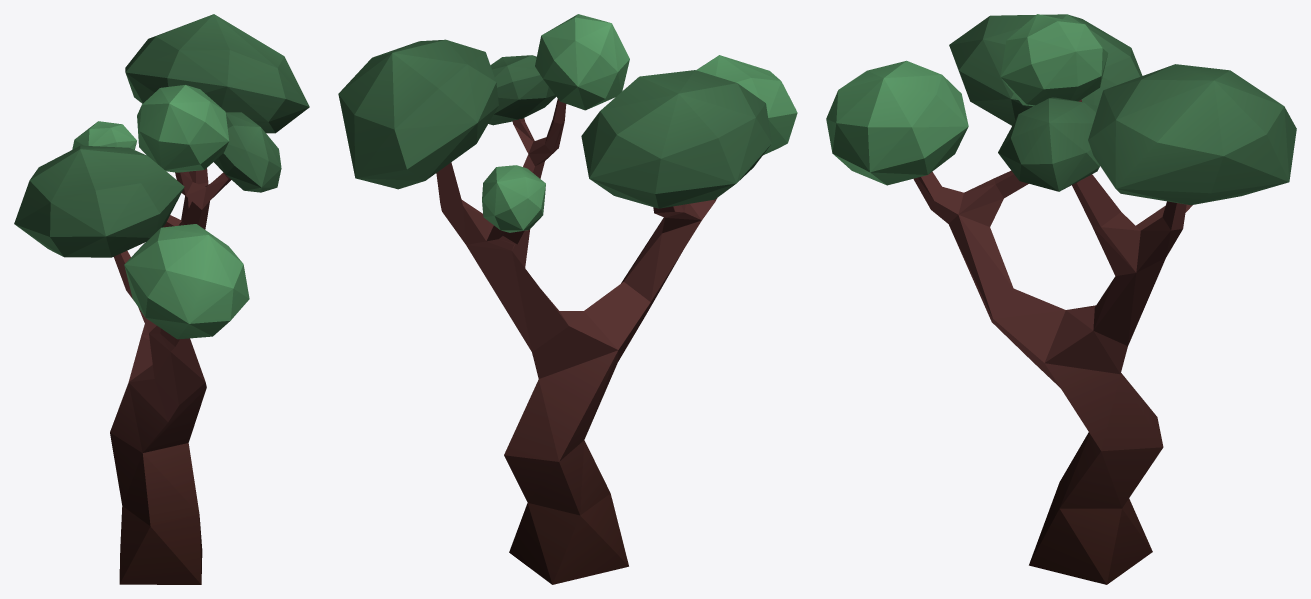
File: DarkTree4.fbx
3 views of the same model, side by side, from view 1: azimuth 30°, elevation 25°; view 2: azimuth 150°, elevation 25°; view 3: azimuth 270°, elevation 25° (orthographic). The views are drawn at different scales.
Visible parts, largest first — view 1: DarkTree4; view 2: DarkTree4; view 3: DarkTree4.
Boxes of the visible parts, <box> form: DarkTree4: <box>14,14,309,584</box>; DarkTree4: <box>338,14,797,584</box>; DarkTree4: <box>826,14,1296,584</box>.
Size of the model in its own units: 285 by 429 by 337.
